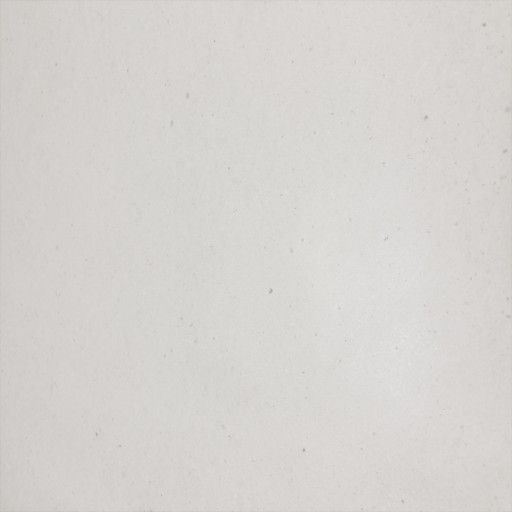lego: (220, 211, 294, 301)
